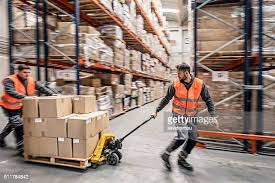Pallet Jack: (22, 113, 159, 173)
